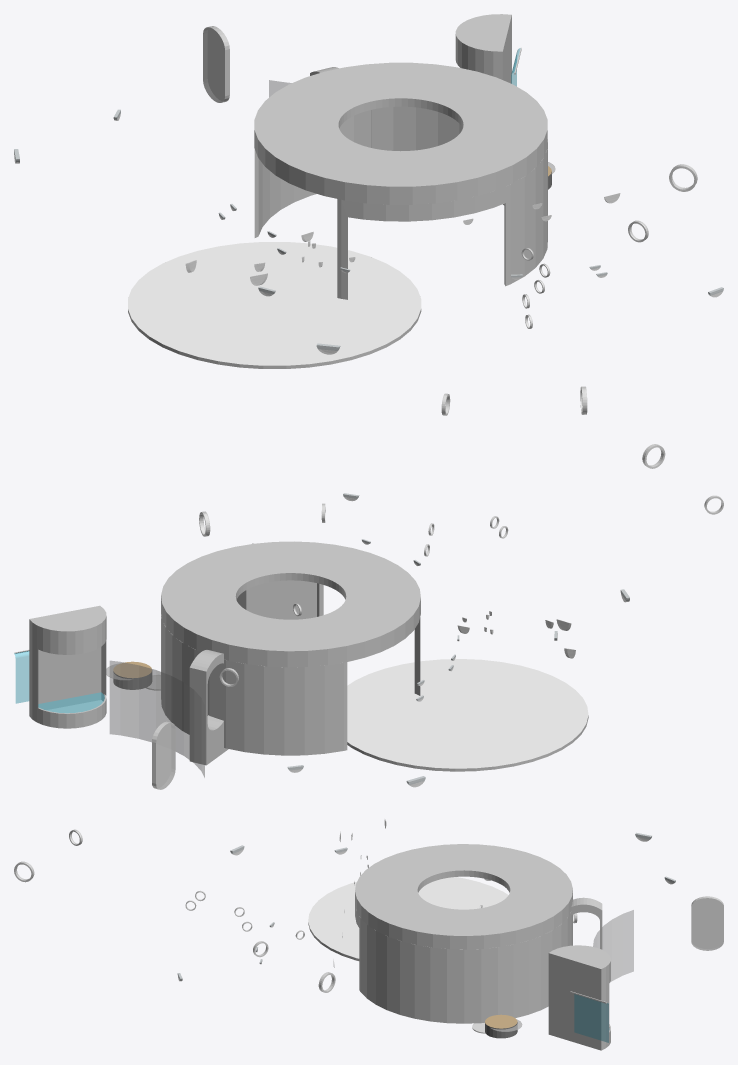
File: earth.glb
The picture shows the model from 3 angles, top to bottom: view 1: azimuth 30°, elevation 25°; view 2: azimuth 150°, elevation 25°; view 3: azimuth 270°, elevation 25°; orthographic projection. The views are drawn at different scales.
Parts seen in each view (by area): view 1: Node1, Node376, Node500, Node562; view 2: Node1, Node376, Node367, Node500, Node424; view 3: Node1, Node376, Node500, Node367, Node424.
Boxes of the visible parts, x1,y1,x2,y2 form: Node1: [128, 14, 547, 368]; Node376: [128, 242, 421, 365]; Node500: [14, 26, 722, 415]; Node562: [14, 109, 723, 350]; Node1: [29, 541, 588, 771]; Node376: [347, 659, 588, 768]; Node367: [106, 660, 204, 777]; Node500: [146, 444, 723, 789]; Node424: [14, 651, 104, 713]; Node1: [308, 844, 610, 1050]; Node376: [308, 877, 508, 958]; Node500: [14, 819, 723, 1033]; Node367: [491, 910, 633, 1031]; Node424: [574, 994, 609, 1042].
Bounding box in the file's own units: 621 × 146 × 1026.
